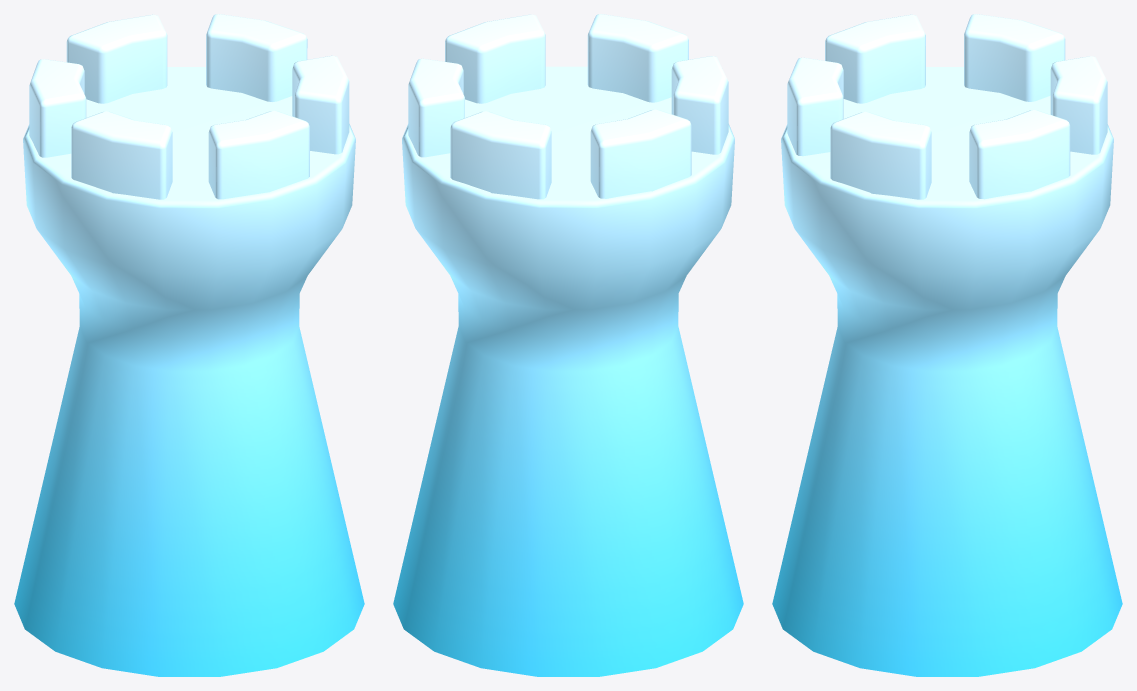
Rendered from tower_001.glb.
3 views of the same model, side by side, from view 1: azimuth 30°, elevation 25°; view 2: azimuth 150°, elevation 25°; view 3: azimuth 270°, elevation 25° (orthographic).
Visible parts, largest first — view 1: tower_001; view 2: tower_001; view 3: tower_001.
Boxes of the visible parts, left/top/right/bottom form: tower_001: left=14, top=14, right=364, bottom=676; tower_001: left=393, top=14, right=743, bottom=676; tower_001: left=772, top=14, right=1122, bottom=676.
Bounding box in the file's own units: 4.77 × 8.03 × 4.84.
Materials: 1 (1 with a texture image).
